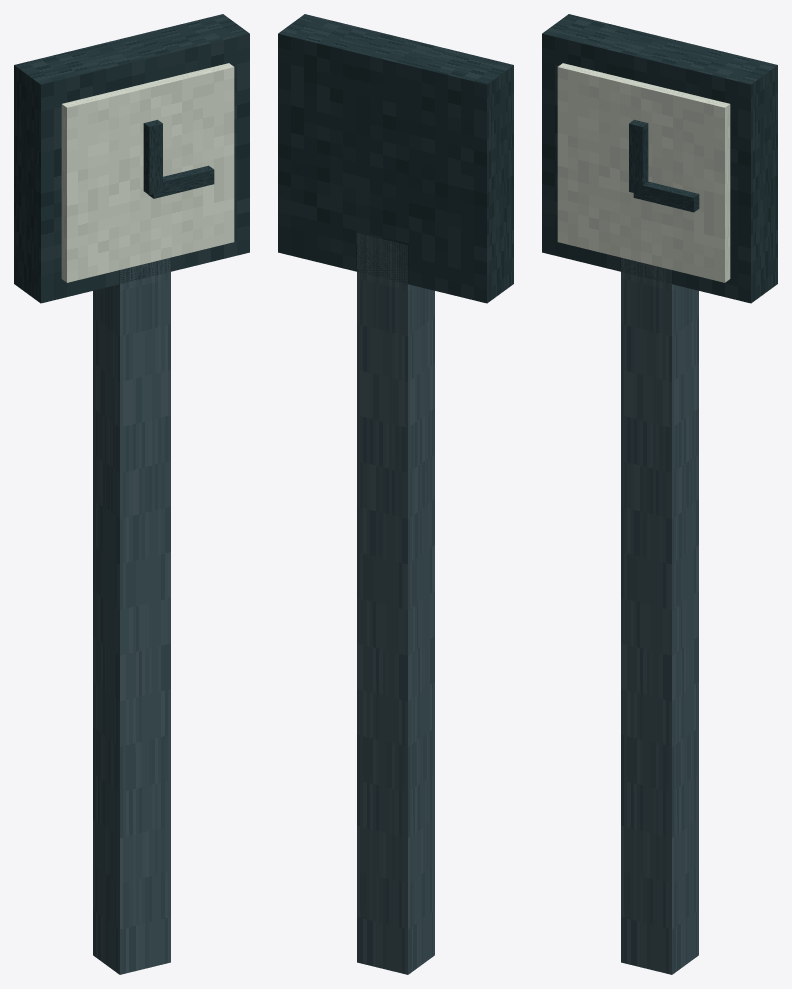
File: clock.glb
3 renders of one model, left to right at view 1: azimuth 30°, elevation 25°; view 2: azimuth 150°, elevation 25°; view 3: azimuth 330°, elevation 25°, orthographic.
Visible parts, largest first — view 1: block-0, block-2, block-1, block-3, block-4; view 2: block-1, block-0; view 3: block-0, block-2, block-1, block-3, block-4.
Boxes of the visible parts, bbox=[...] form: block-0: bbox=[93, 258, 170, 974]; block-2: bbox=[61, 63, 234, 282]; block-1: bbox=[14, 14, 249, 303]; block-3: bbox=[143, 119, 162, 194]; block-4: bbox=[149, 165, 214, 198]; block-1: bbox=[278, 14, 513, 303]; block-0: bbox=[357, 233, 434, 974]; block-0: bbox=[621, 257, 698, 974]; block-2: bbox=[557, 63, 730, 282]; block-1: bbox=[542, 14, 777, 303]; block-3: bbox=[629, 119, 648, 194]; block-4: bbox=[633, 181, 699, 212].
Size of the model in its own units: 0.45 by 1.87 by 0.14.
3 materials, 3 textured.
